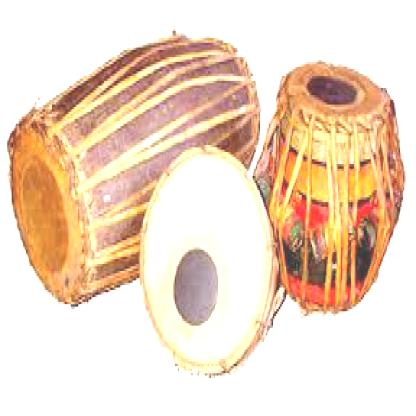Mridangam: (5, 1, 262, 282), (264, 51, 411, 324)
